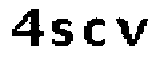4: (8, 5, 48, 52)
c: (80, 12, 110, 48)
s: (50, 13, 76, 49)
v: (115, 14, 149, 50)
